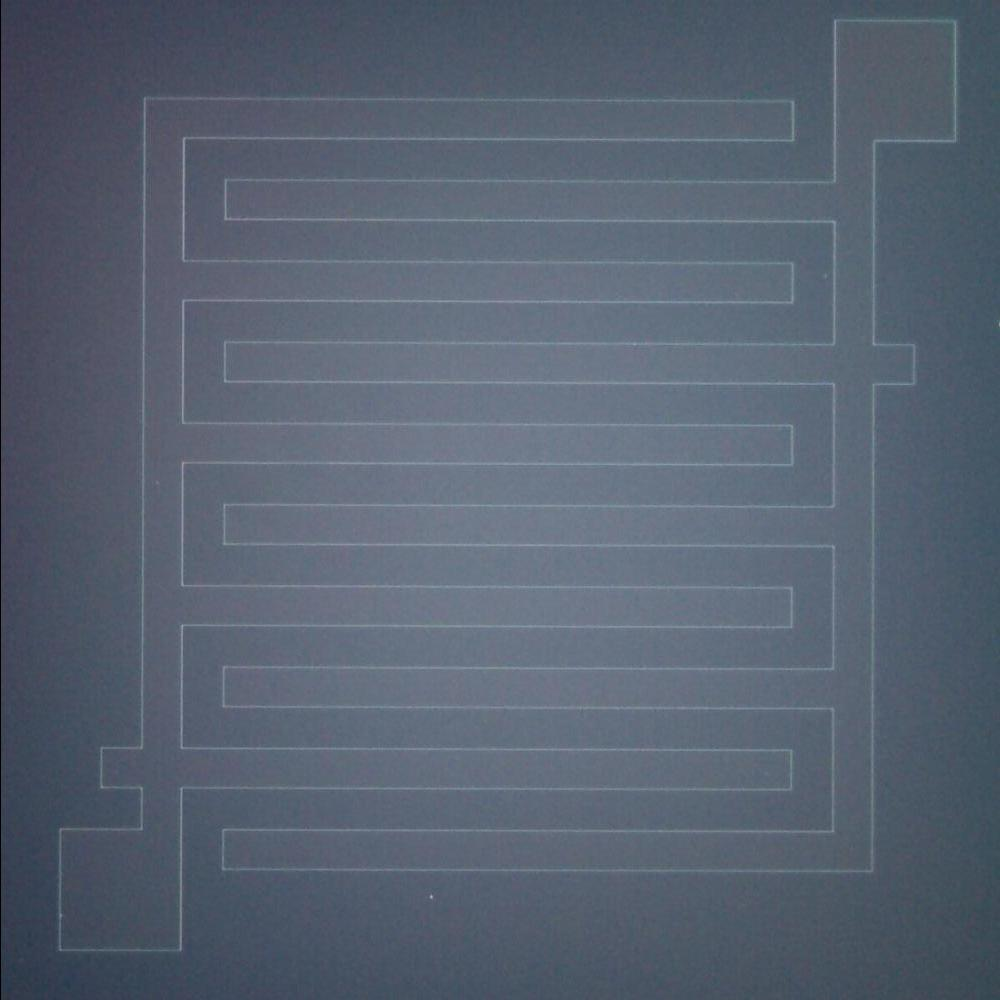budge circuit: (857, 331, 923, 395), (92, 735, 152, 801)
